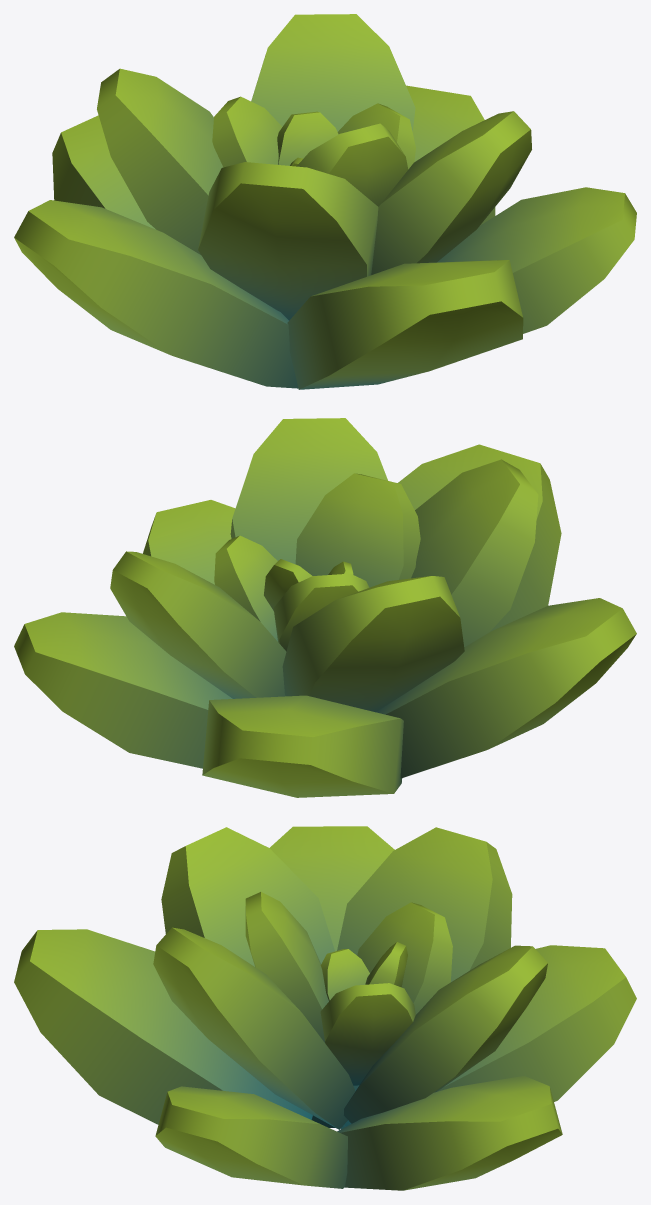
3 views of the same model, one above another, from view 1: azimuth 30°, elevation 25°; view 2: azimuth 150°, elevation 25°; view 3: azimuth 270°, elevation 25° (orthographic). The views are drawn at different scales.
Visible parts, largest first — view 1: LOD 0_12136077992207387896_2f8ba4c41a4dc724f9dea2cd9f6b5378; view 2: LOD 0_12136077992207387896_2f8ba4c41a4dc724f9dea2cd9f6b5378; view 3: LOD 0_12136077992207387896_2f8ba4c41a4dc724f9dea2cd9f6b5378.
Part boxes in pixels (box(x1,y1,x2,y2)): LOD 0_12136077992207387896_2f8ba4c41a4dc724f9dea2cd9f6b5378: box(14, 14, 636, 389); LOD 0_12136077992207387896_2f8ba4c41a4dc724f9dea2cd9f6b5378: box(14, 418, 636, 797); LOD 0_12136077992207387896_2f8ba4c41a4dc724f9dea2cd9f6b5378: box(14, 826, 636, 1190).
Size of the model in its own units: 0.7875 by 0.3778 by 0.8217.
